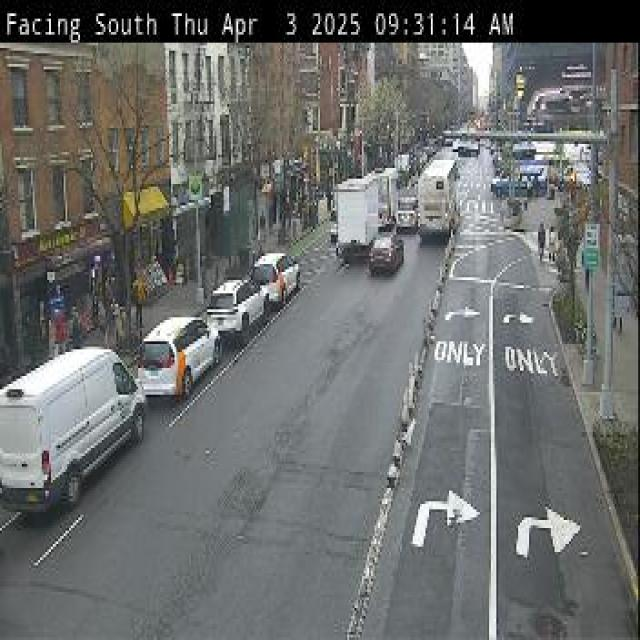open parking: (279, 188, 351, 350)
